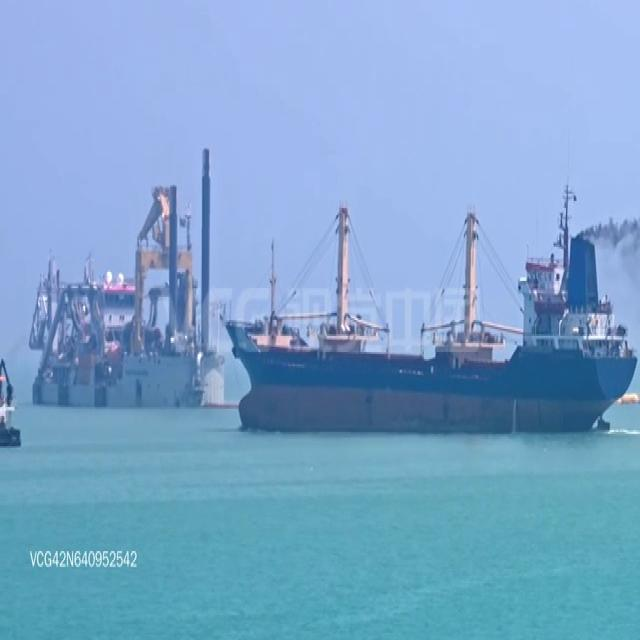cargoship: (222, 187, 640, 437), (27, 148, 226, 408)
